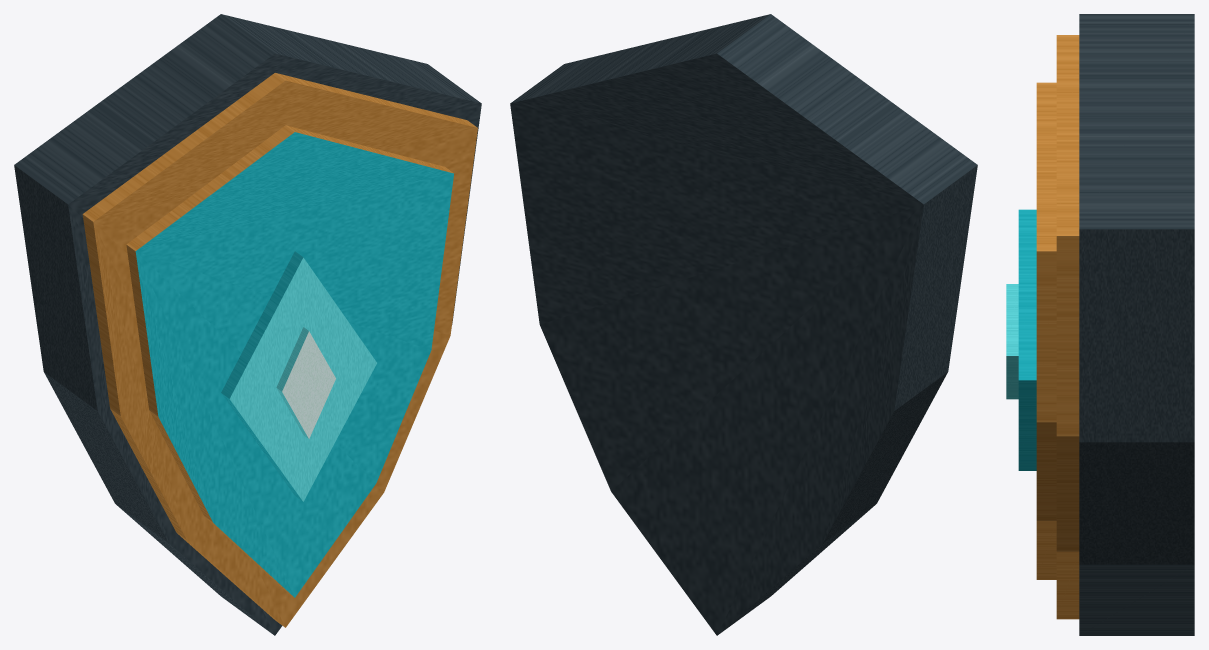
Rendered from escudo_invencibilidade.obj.
3 views of the same model, side by side, from view 1: azimuth 30°, elevation 25°; view 2: azimuth 150°, elevation 25°; view 3: azimuth 270°, elevation 25° (orthographic). The views are drawn at different scales.
Parts seen in each view (by area): view 1: escudo_invencibilidade; view 2: escudo_invencibilidade; view 3: escudo_invencibilidade.
Boxes of the visible parts, x1,y1,x2,y2 form: escudo_invencibilidade: (14, 14, 481, 635); escudo_invencibilidade: (510, 14, 977, 635); escudo_invencibilidade: (1006, 14, 1194, 635).
Bounding box in the file's own units: 1.68 × 2.26 × 0.62.
5 materials, 5 textured.
